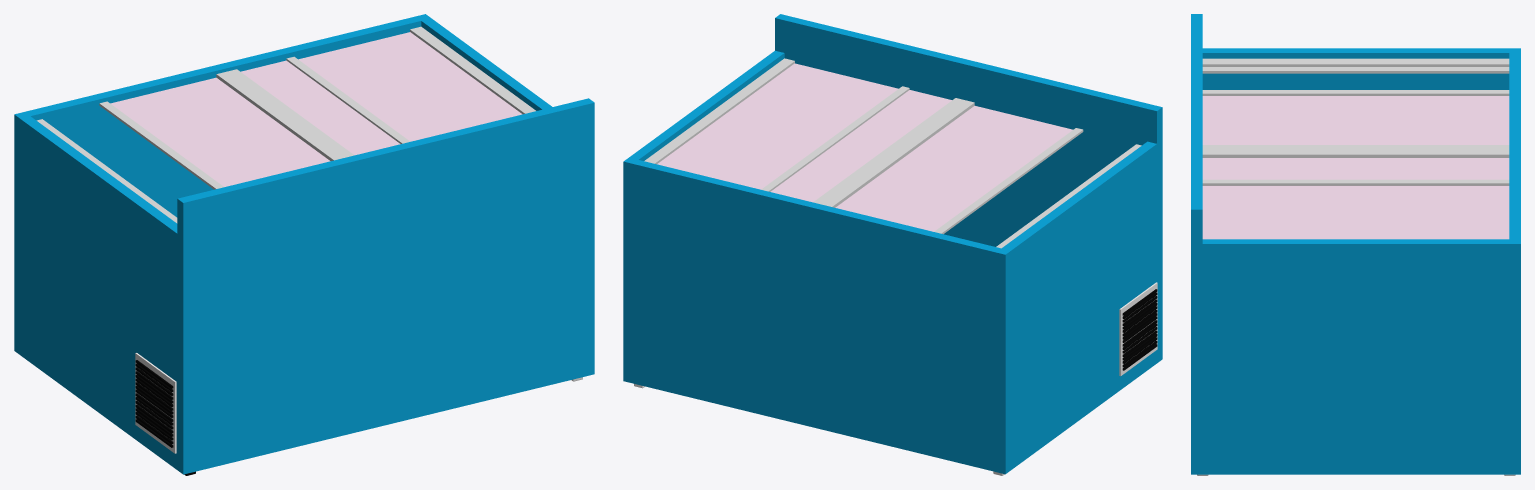
File: Freezer.fbx
The picture shows the model from 3 angles, left to right: view 1: azimuth 30°, elevation 25°; view 2: azimuth 150°, elevation 25°; view 3: azimuth 270°, elevation 25°; orthographic projection. The views are drawn at different scales.
Parts seen in each view (by area): view 1: Cube.002, Cube.001, Cube.014, Cube.003, Cube.013, Cube.008, Cube.004, Cube.010, Cube.015, Cube.016, Cube.011, Cube.017; view 2: Cube.003, Cube.001, Cube.002, Cube.014, Cube.013, Cube.008, Cube.004, Cube.010, Cube.015, Cube.016, Cube.011, Cube.017; view 3: Cube.004, Cube.014, Cube.013, Cube.001, Cube.002, Cube.003, Cube.008, Cube.011, Cube.012, Cube.016, Cube.015.
Part boxes in pixels (bbox=[...]): Cube.002: bbox=[177, 98, 594, 474]; Cube.001: bbox=[20, 116, 178, 470]; Cube.014: bbox=[110, 60, 400, 186]; Cube.003: bbox=[14, 14, 430, 354]; Cube.013: bbox=[298, 32, 522, 141]; Cube.008: bbox=[216, 69, 354, 160]; Cube.004: bbox=[421, 18, 552, 110]; Cube.010: bbox=[410, 26, 535, 114]; Cube.015: bbox=[99, 101, 224, 189]; Cube.016: bbox=[286, 56, 410, 143]; Cube.011: bbox=[36, 119, 177, 223]; Cube.017: bbox=[135, 353, 176, 453]; Cube.003: bbox=[623, 157, 1010, 474]; Cube.001: bbox=[1002, 141, 1157, 469]; Cube.002: bbox=[775, 14, 1162, 362]; Cube.014: bbox=[770, 90, 1072, 231]; Cube.013: bbox=[657, 63, 898, 189]; Cube.008: bbox=[813, 98, 974, 207]; Cube.004: bbox=[629, 50, 784, 160]; Cube.010: bbox=[644, 58, 794, 164]; Cube.015: bbox=[934, 128, 1083, 234]; Cube.016: bbox=[761, 86, 909, 191]; Cube.011: bbox=[996, 144, 1141, 248]; Cube.017: bbox=[1119, 282, 1157, 376]; Cube.004: bbox=[1202, 239, 1509, 474]; Cube.014: bbox=[1202, 96, 1509, 185]; Cube.013: bbox=[1202, 186, 1509, 239]; Cube.001: bbox=[1202, 48, 1509, 89]; Cube.002: bbox=[1191, 14, 1202, 474]; Cube.003: bbox=[1509, 48, 1520, 474]; Cube.008: bbox=[1202, 145, 1509, 157]; Cube.011: bbox=[1202, 58, 1509, 66]; Cube.012: bbox=[1202, 67, 1509, 73]; Cube.016: bbox=[1202, 179, 1509, 185]; Cube.015: bbox=[1202, 90, 1509, 95].
Bounding box in the file's own units: 1209 × 773 × 854.
